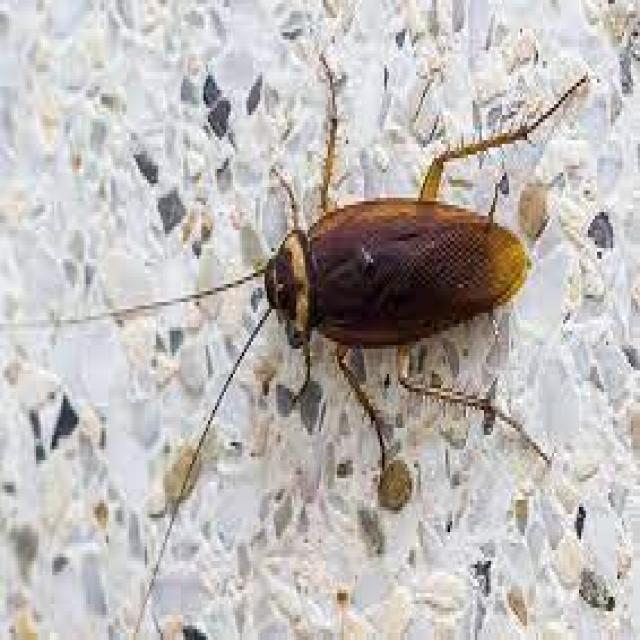Cockroach: (50, 61, 598, 562)
